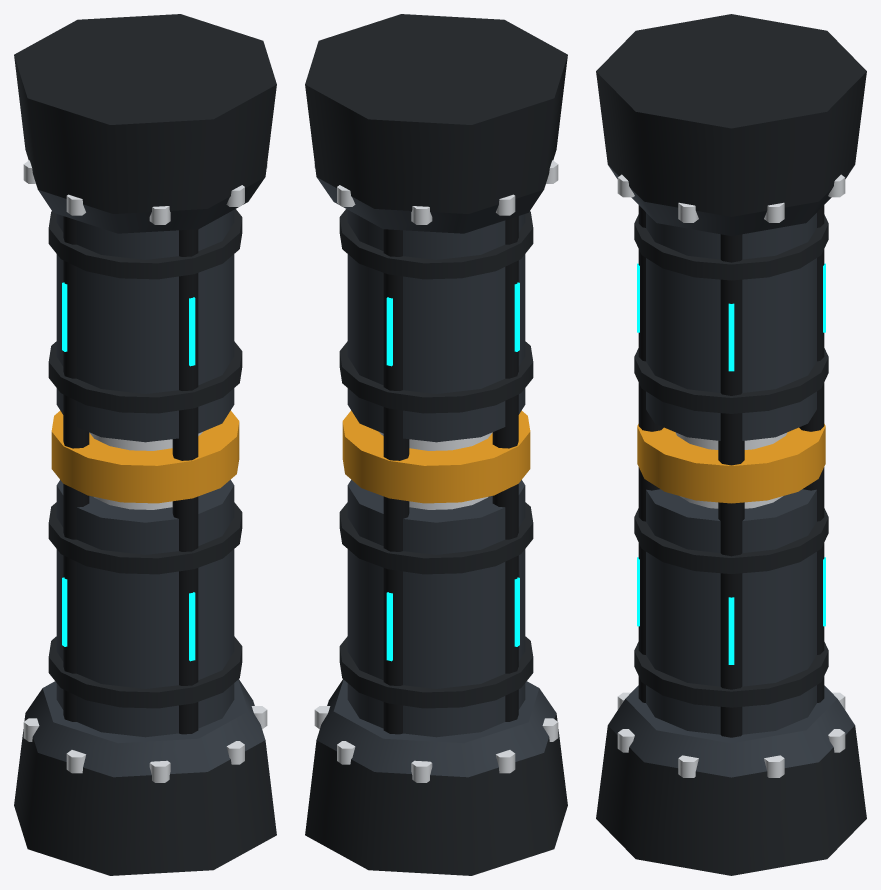
File: cyber-pillar.glb
The picture shows the model from 3 angles, left to right: view 1: azimuth 30°, elevation 25°; view 2: azimuth 150°, elevation 25°; view 3: azimuth 270°, elevation 25°; orthographic projection.
Parts seen in each view (by area): view 1: CyberHydraulicPillar; view 2: CyberHydraulicPillar; view 3: CyberHydraulicPillar.
Part boxes in pixels (x1=…): CyberHydraulicPillar: x1=14, y1=14, x2=276, y2=875; CyberHydraulicPillar: x1=305, y1=14, x2=567, y2=875; CyberHydraulicPillar: x1=596, y1=14, x2=866, y2=875.
Bounding box in the file's own units: 0.92 × 2.8 × 0.92.
